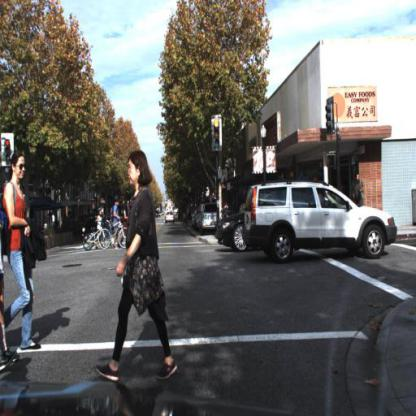car: (240, 175, 404, 271), (217, 187, 257, 257), (80, 211, 109, 247), (161, 205, 177, 227)
pedestrian: (95, 147, 181, 385), (1, 150, 42, 356), (95, 197, 132, 254), (99, 198, 137, 253), (82, 205, 113, 254), (94, 205, 110, 252), (354, 173, 366, 218)
trafficLight: (210, 111, 225, 146), (1, 129, 15, 156)
